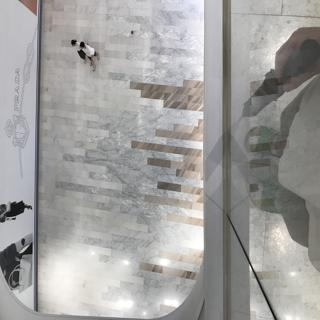person: (76, 41, 107, 71), (61, 31, 82, 61)
